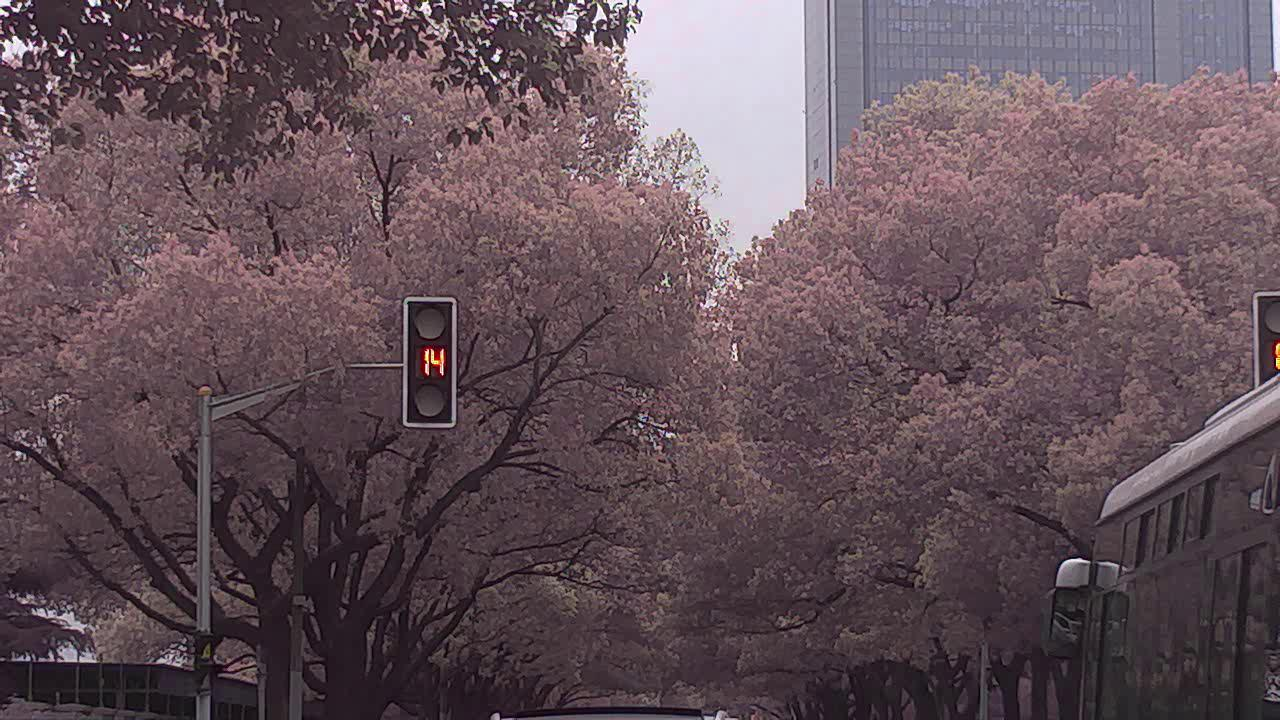traffic_light: (403, 295, 456, 433)
